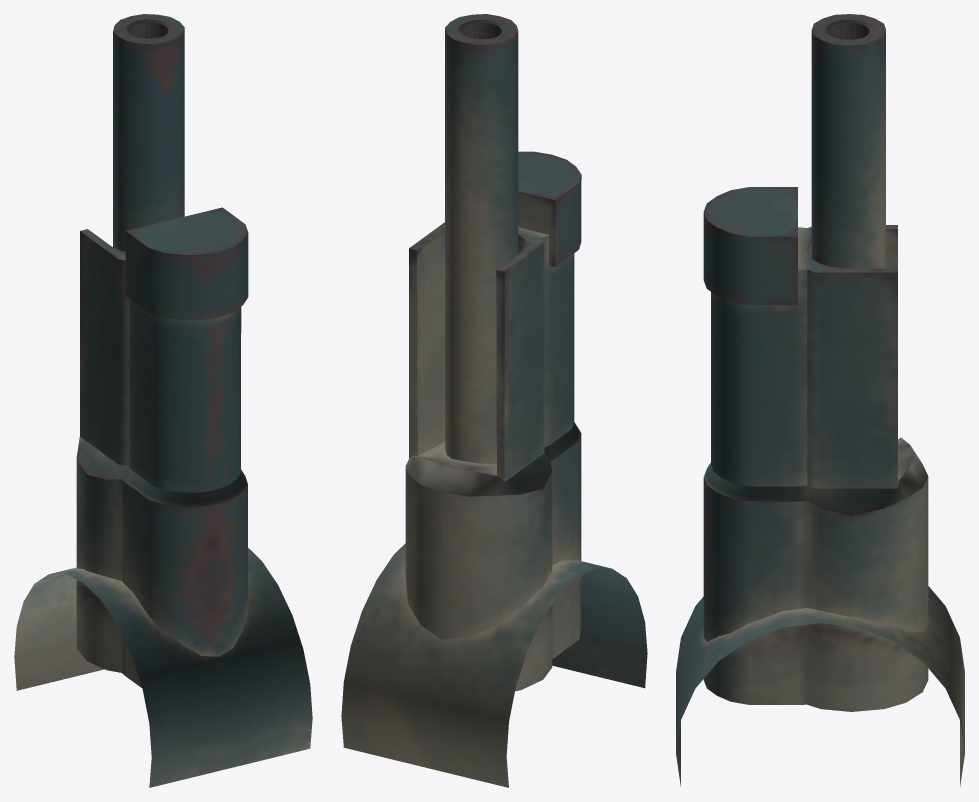
File: Gun_07.glb
The picture shows the model from 3 angles, left to right: view 1: azimuth 30°, elevation 25°; view 2: azimuth 150°, elevation 25°; view 3: azimuth 270°, elevation 25°; orthographic projection. The views are drawn at different scales.
Visible parts, largest first — view 1: set_0_group_0; view 2: set_0_group_0; view 3: set_0_group_0.
Boxes of the visible parts, x1,y1,x2,y2 form: set_0_group_0: [14, 14, 312, 787]; set_0_group_0: [341, 14, 647, 787]; set_0_group_0: [676, 14, 964, 786].
Size of the model in its own units: 0.2102 by 0.8498 by 0.3106.
Materials: 1 (1 with a texture image).
